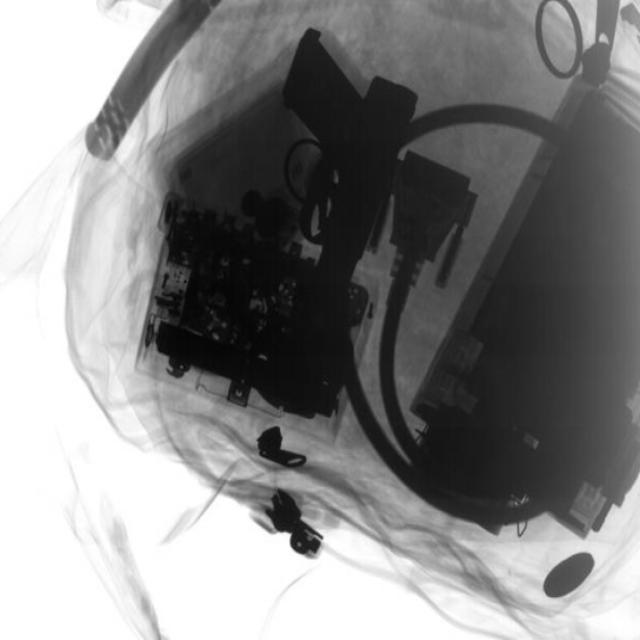GUN: (271, 52, 406, 342)
